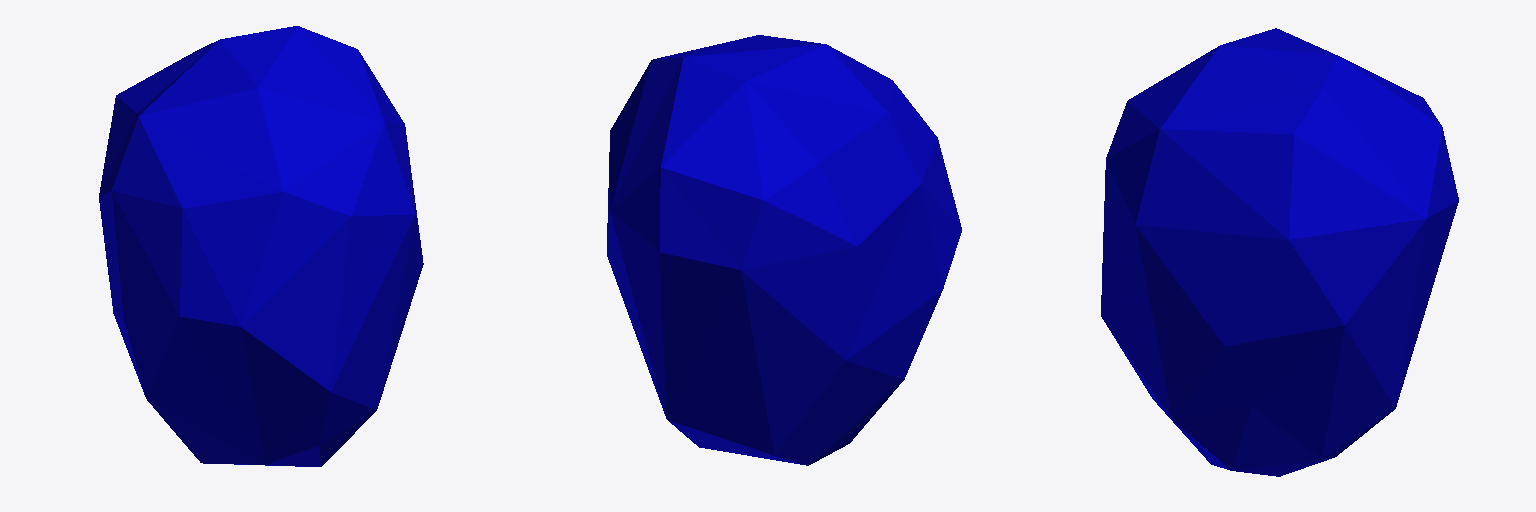
File: Aquamarine.obj
3 renders of one model, left to right at view 1: azimuth 30°, elevation 25°; view 2: azimuth 150°, elevation 25°; view 3: azimuth 270°, elevation 25°, orthographic.
Visible parts, largest first — view 1: Aquamarine; view 2: Aquamarine; view 3: Aquamarine.
Boxes of the visible parts, box(x1,y1,x2,y2) form: Aquamarine: box(99, 26, 423, 466); Aquamarine: box(607, 35, 961, 465); Aquamarine: box(1101, 28, 1458, 476).
Bounding box in the file's own units: 0.2229 × 0.2765 × 0.2254.